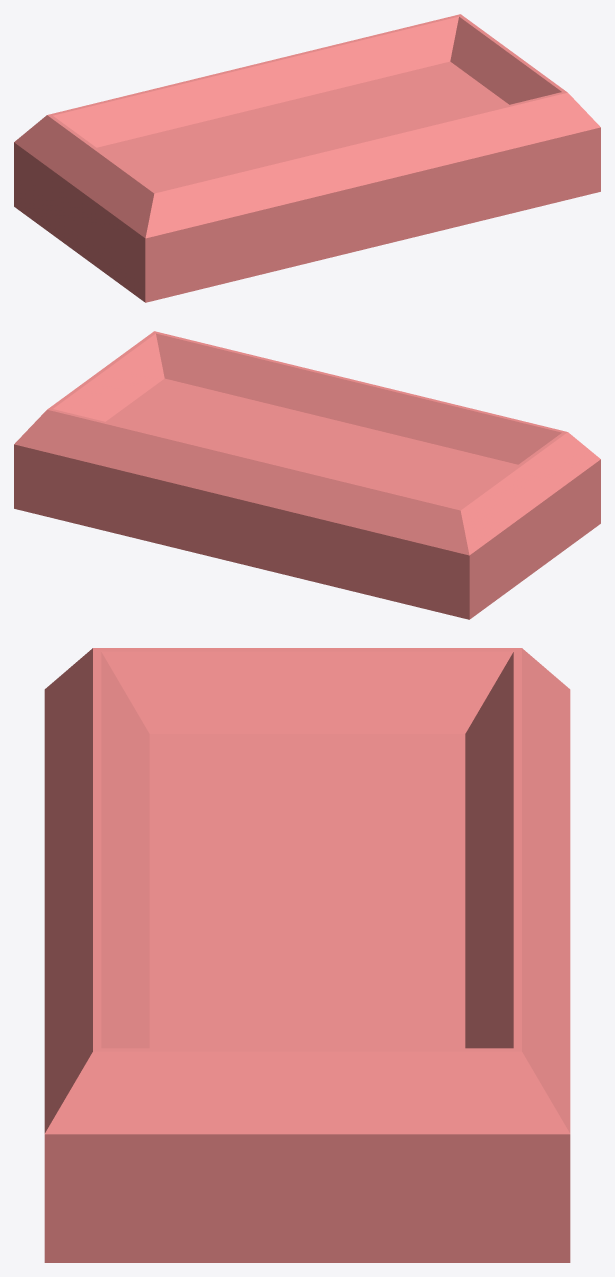
Rendered from Light_DengPian7_1X1_off.FBX.
3 renders of one model, top to bottom at view 1: azimuth 30°, elevation 25°; view 2: azimuth 150°, elevation 25°; view 3: azimuth 270°, elevation 25°, orthographic. The views are drawn at different scales.
Visible parts, largest first — view 1: Box002; view 2: Box002; view 3: Box002.
Part boxes in pixels (x1,y1,x2,y2): Box002: [14, 14, 600, 302]; Box002: [14, 331, 600, 619]; Box002: [44, 648, 570, 1262].
Bounding box in the file's own units: 1 × 0.2 × 0.5.
